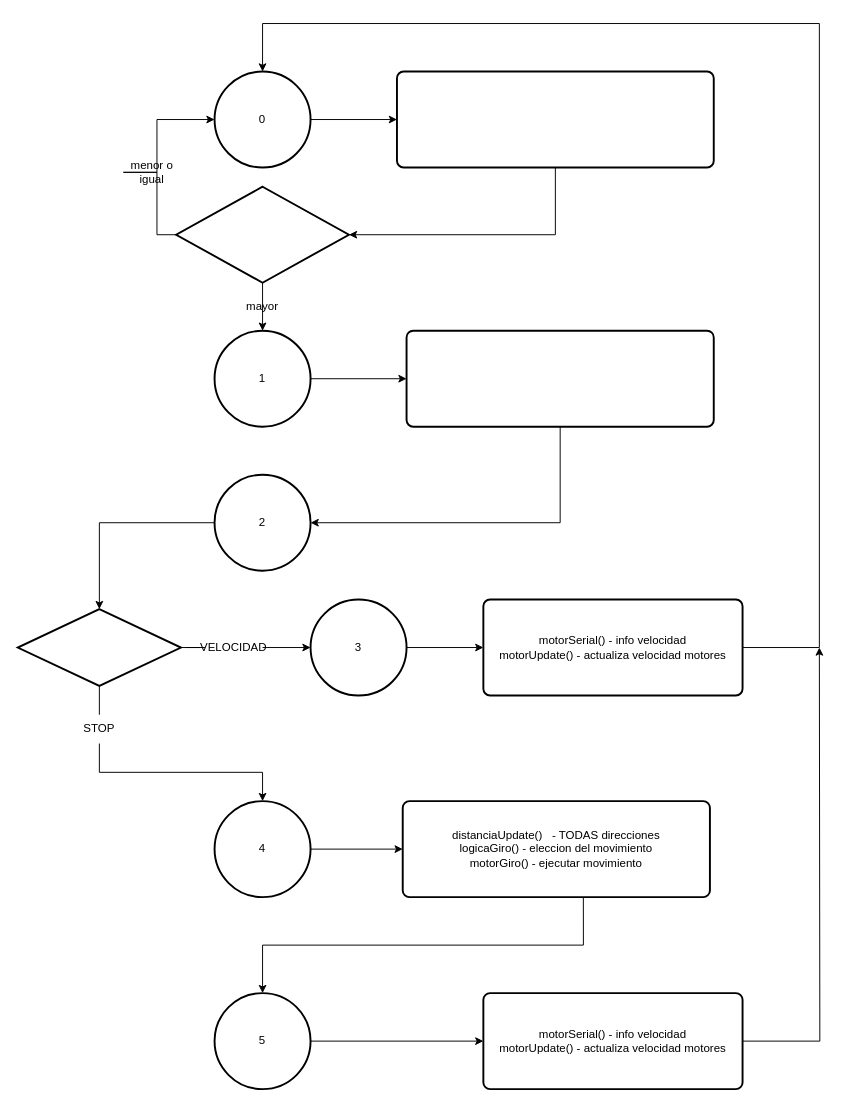
Some shapes in this 844 by 1107 pixel diagram are drawn without their labels. Each missing label, with the centre of its shape:
distanciaUpdate() - solo frontal (0º): the point at 559,378
distValores [ 2 ]: the point at 98,647
tiempoActual = millis (); comando = remotoLeer ();: the point at 555,119
tiempoActual > TIEMPO_PERIODO: the point at 262,234
